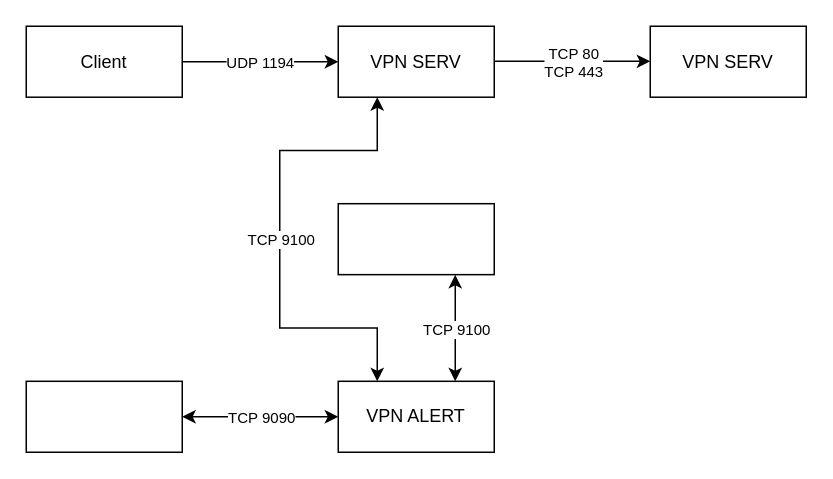
The diagram is 833 pixels wide and 479 high, and some of its shapes have lost their labels. The shapes that lost their labels are listed below. From the top down, each one's centre as x and y in pixels, then its label:
point 415,238: VPN CA
point 103,416: Admin
